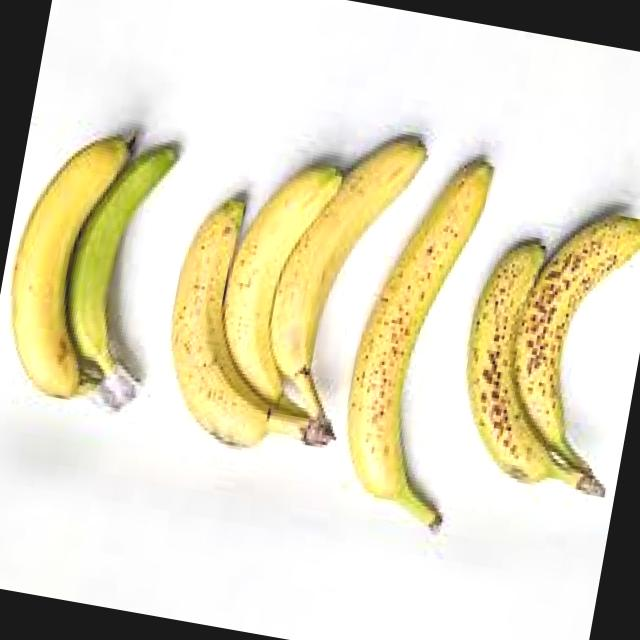Banana: (144, 100, 438, 472), (323, 144, 519, 542), (437, 196, 640, 512), (0, 114, 191, 427)
